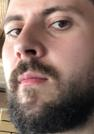without_mask: (2, 2, 94, 134)
